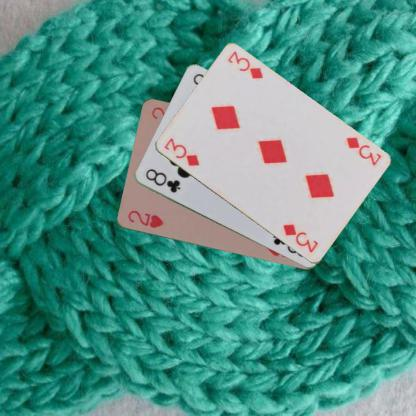2h: (124, 207, 164, 230)
3d: (161, 135, 201, 168), (343, 134, 383, 167)
8c: (143, 166, 181, 194)
